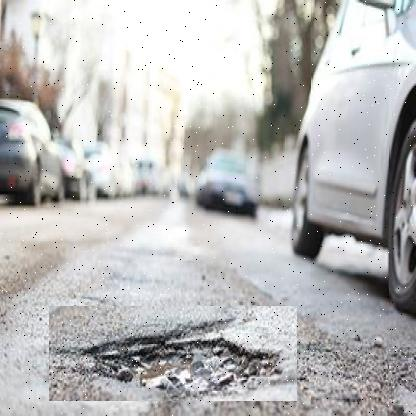pothole: (48, 306, 297, 402)
